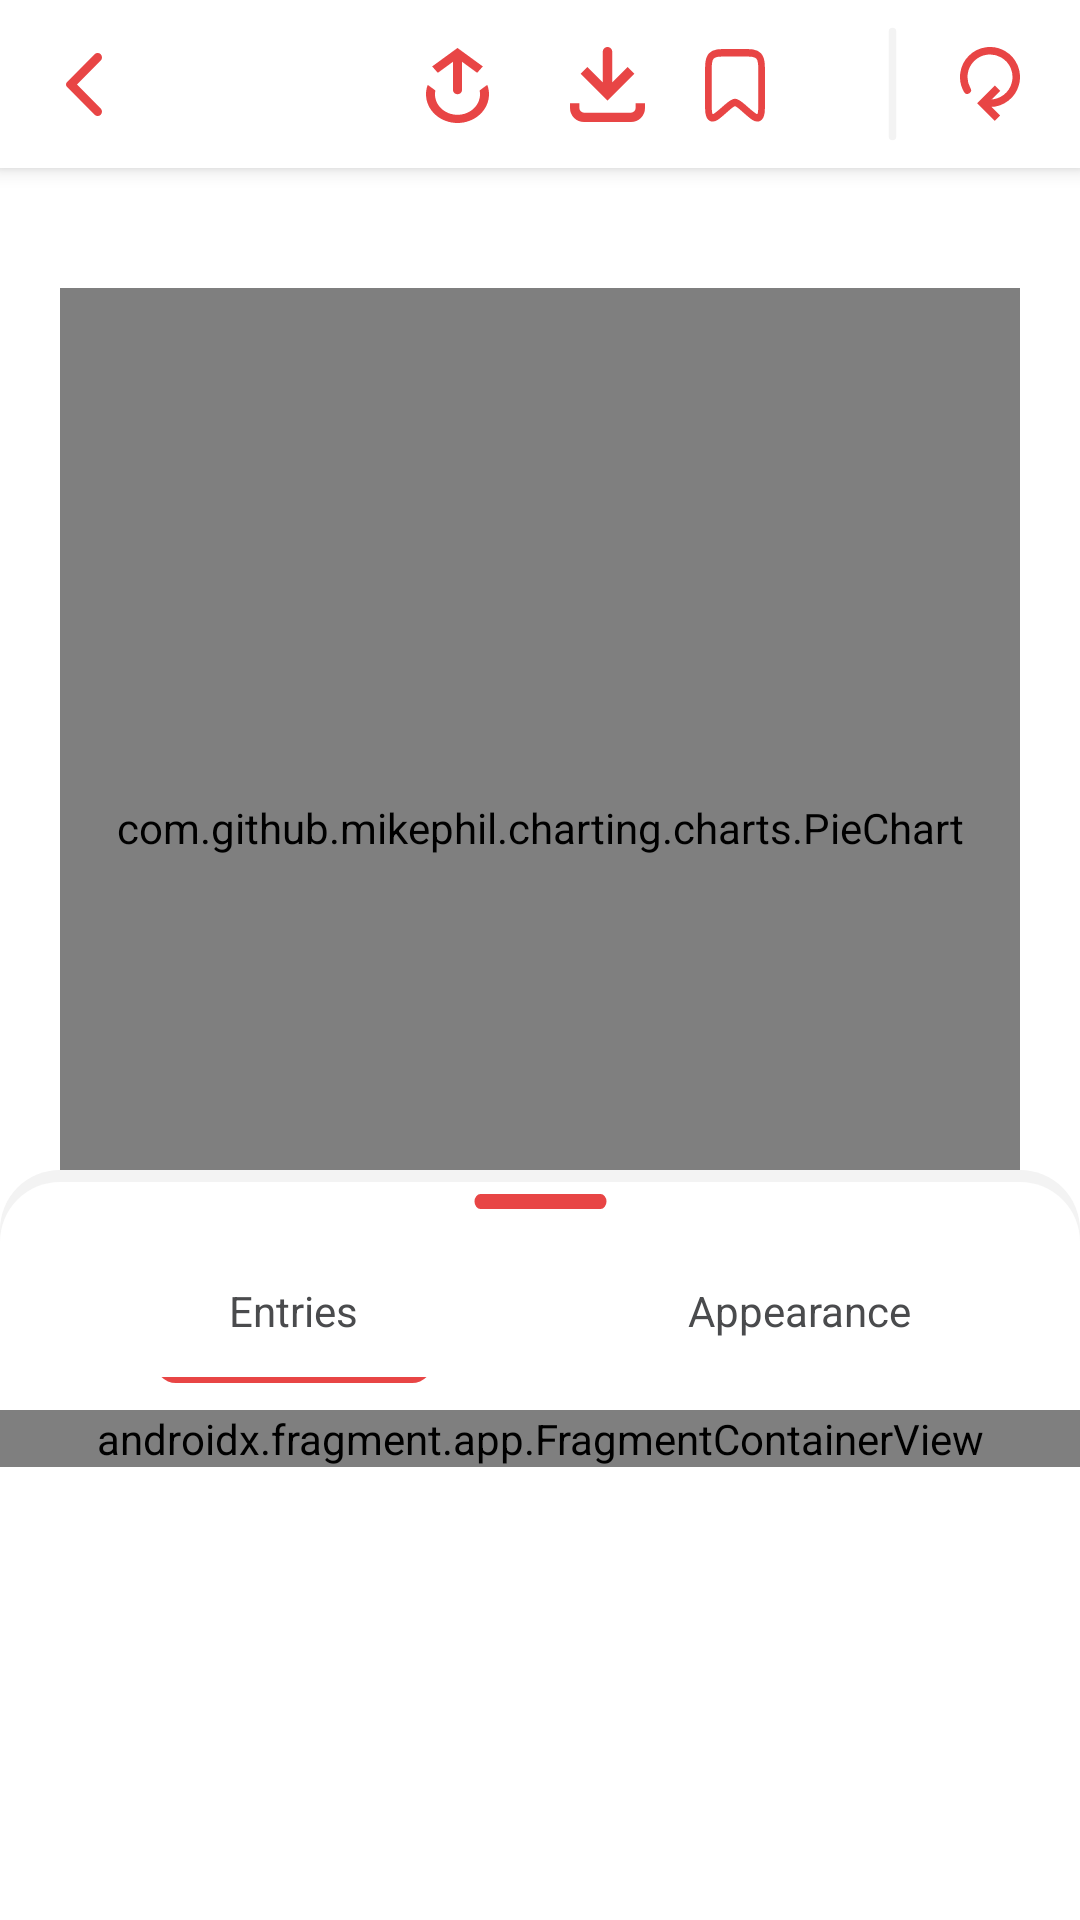

Point at icon controls on the screen. Image size 1080*1920, points as [x,y].
export: [607,84]
favourite: [735,85]
reset: [990,84]
share: [457,85]
